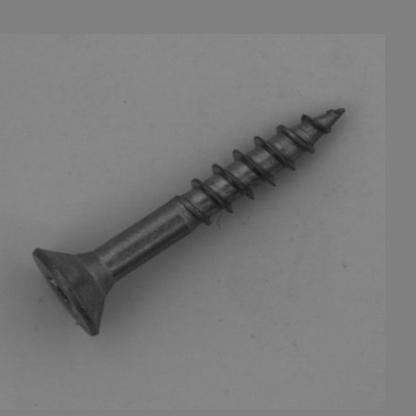metal: (31, 106, 346, 336)
